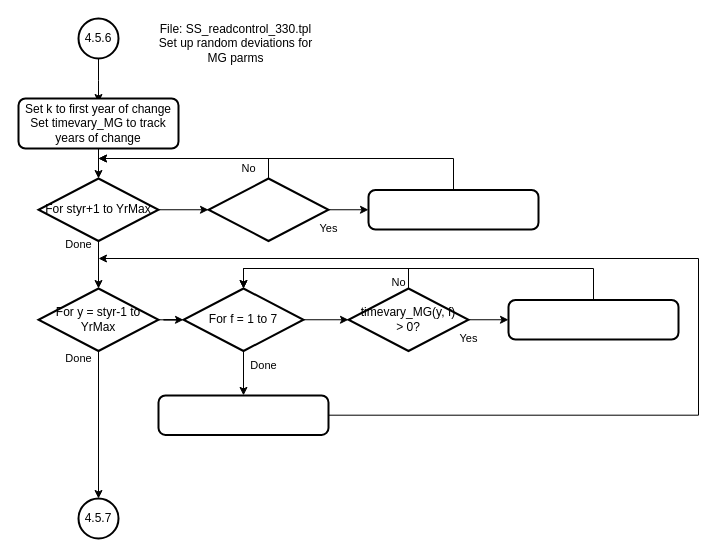
This 724x556 diagram has some shape labels left out. The centre of each missing label's shape, as x and y in pixels:
Output timevary_MG(y): the point at 243,414
Set MG_active(f) = 1 Set timevary_MG(y, 0) = 1: the point at 593,319
Set this and following timevary_MG(x,2) to 1: the point at 453,209
timevary_MG(year,2) > 0 ?: the point at 268,209
